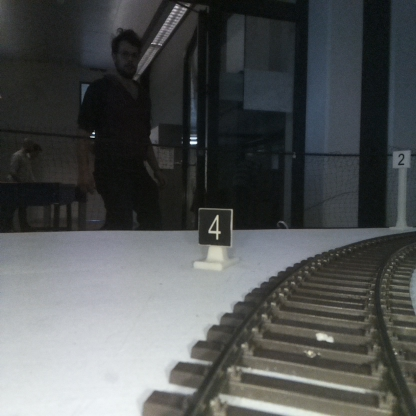black-stop-4: (198, 208, 231, 271)
white-info-2: (392, 149, 410, 226)
